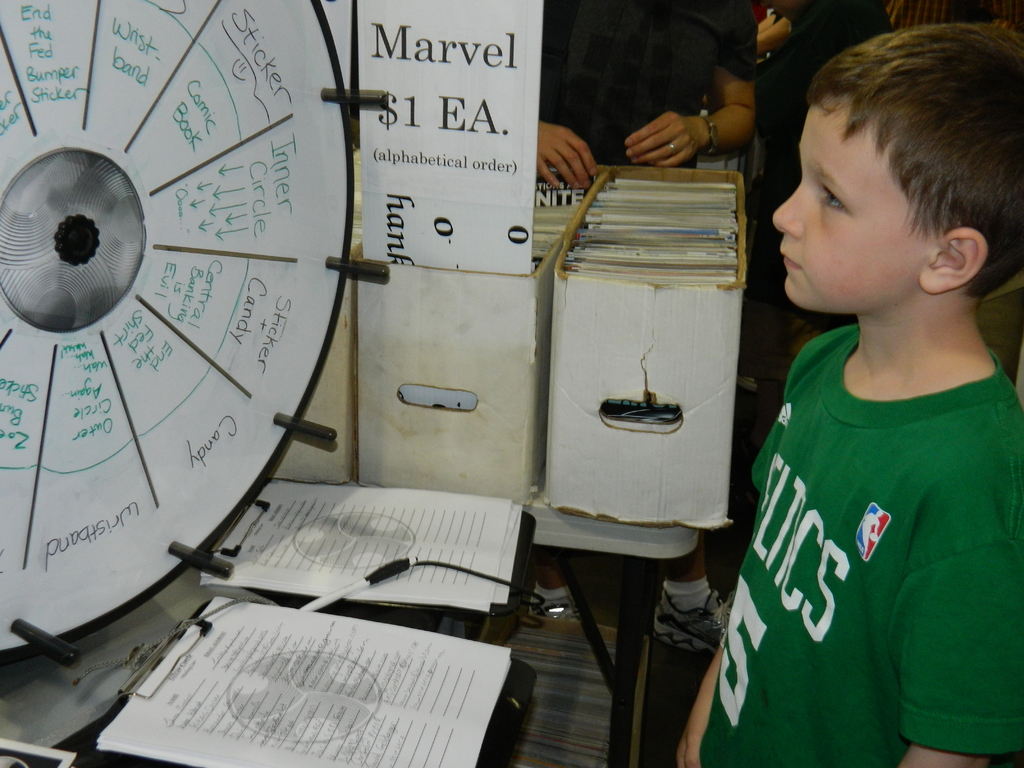Human-face: (770, 102, 934, 305)
